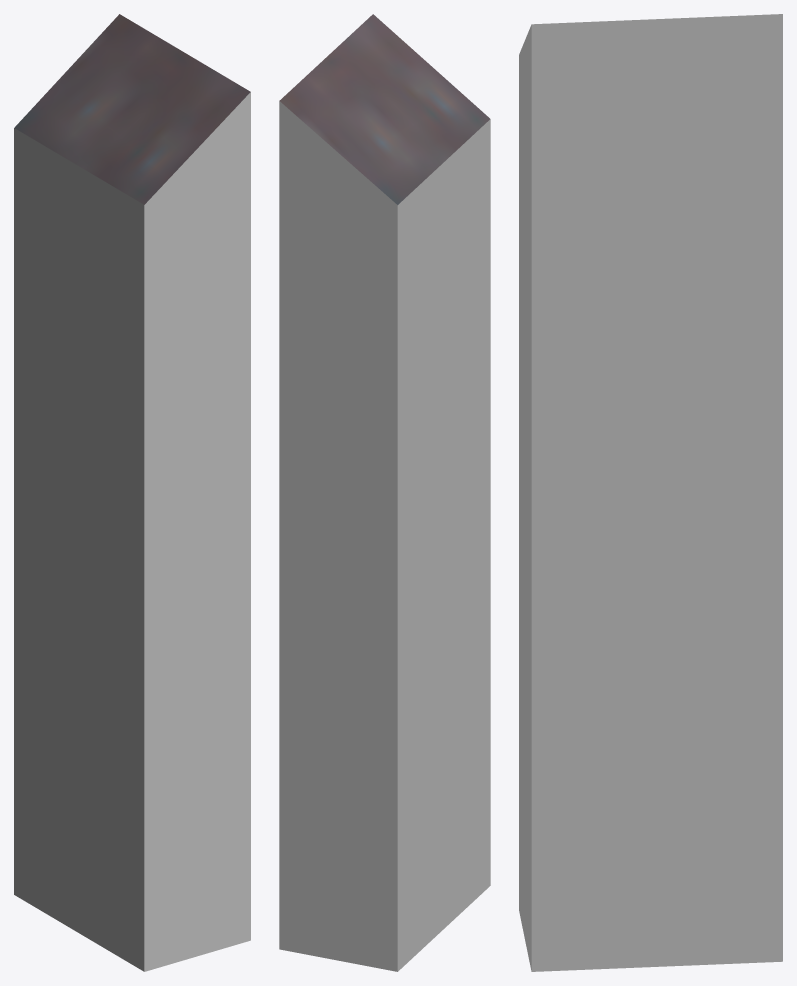
Rendered from DEBW_0010007THWI.gltf.
The picture shows the model from 3 angles, left to right: view 1: azimuth 30°, elevation 25°; view 2: azimuth 150°, elevation 25°; view 3: azimuth 270°, elevation 25°; orthographic projection. The views are drawn at different scales.
Visible parts, largest first — view 1: Z_UP; view 2: Z_UP; view 3: Z_UP.
Part boxes in pixels (bbox=[...]): Z_UP: bbox=[14, 14, 250, 971]; Z_UP: bbox=[279, 14, 490, 971]; Z_UP: bbox=[519, 14, 782, 971].
Bounding box in the file's own units: 2.44 × 15.15 × 3.82.
Materials: 2 (1 with a texture image).
